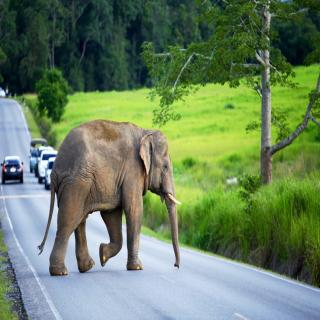Elephant: (34, 117, 186, 277)
